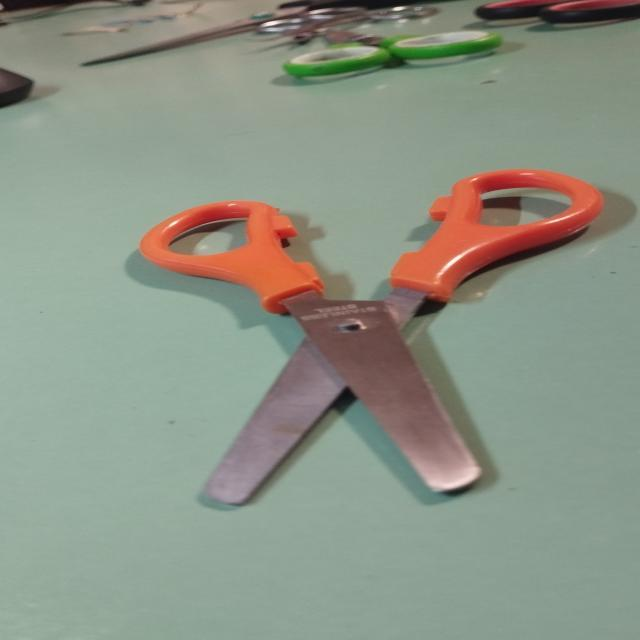tesoura: (134, 162, 616, 512)
